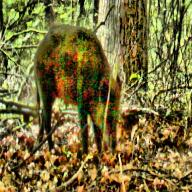boar: (26, 14, 124, 178)
